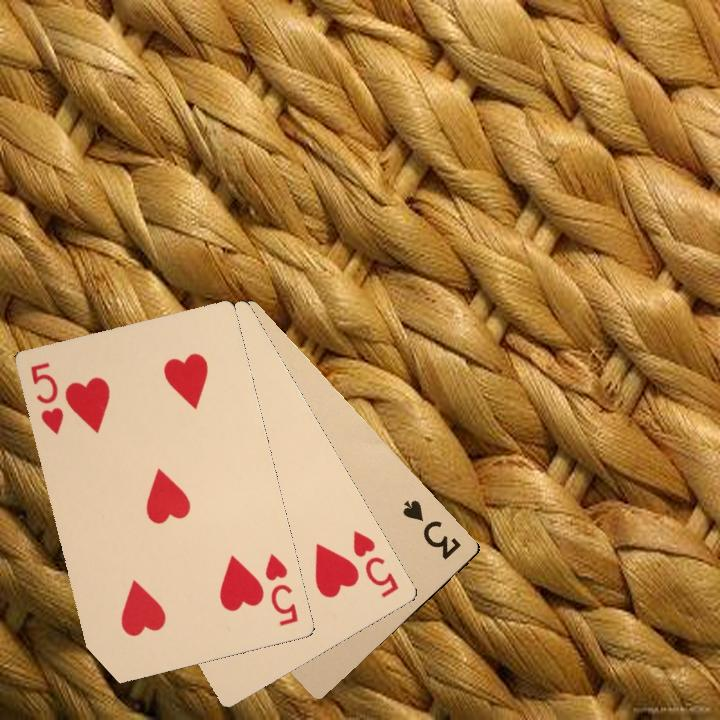3s: (398, 495, 464, 562)
5h: (348, 526, 402, 600), (261, 549, 301, 629), (26, 358, 66, 437)
